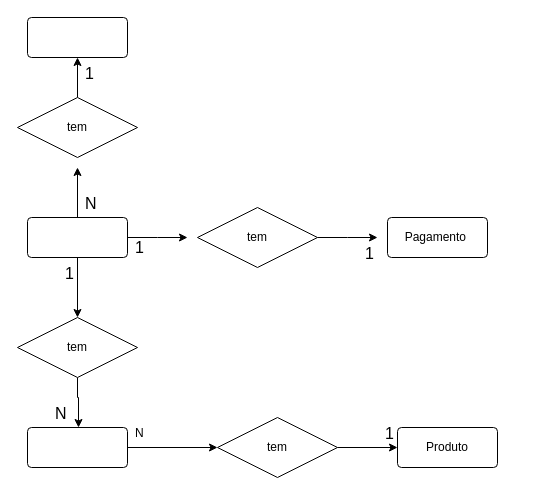
The diagram is 545 pixels wide and 495 high, and some of its shapes have lost their labels. The shapes that lost their labels are listed below. From the top down, each one's centre as x and y in pixels, then its label:
At [77,37]: "Cliente".
At [77,237]: "Pedido".
At [77,447]: "ItemDoProduto".
